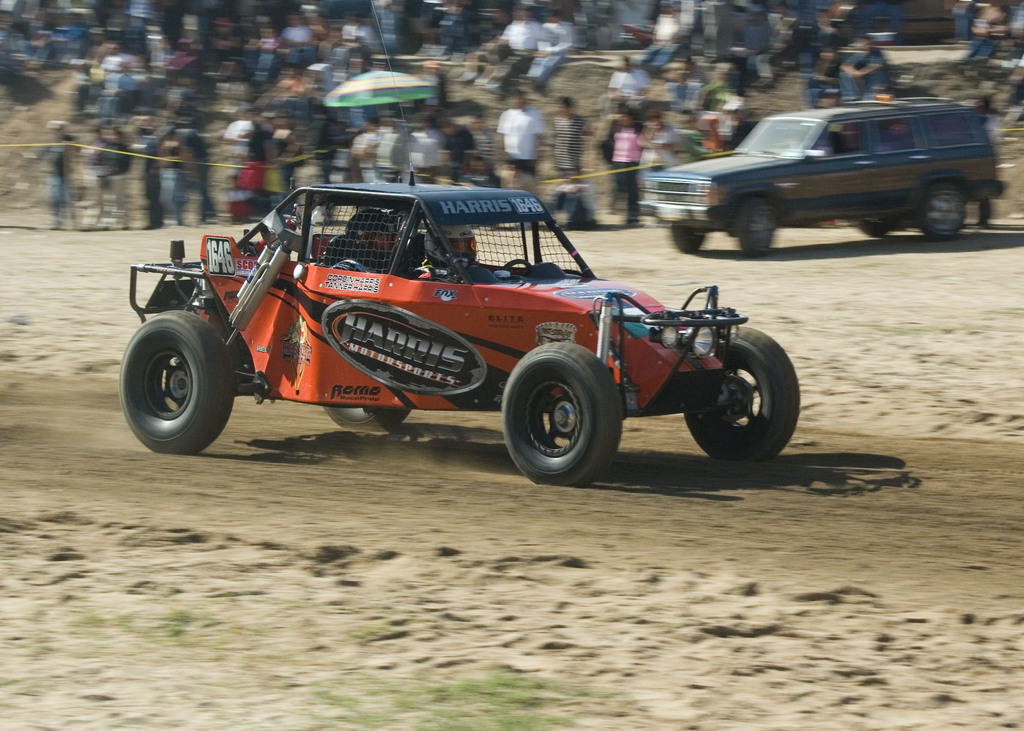person: (403, 112, 447, 183)
